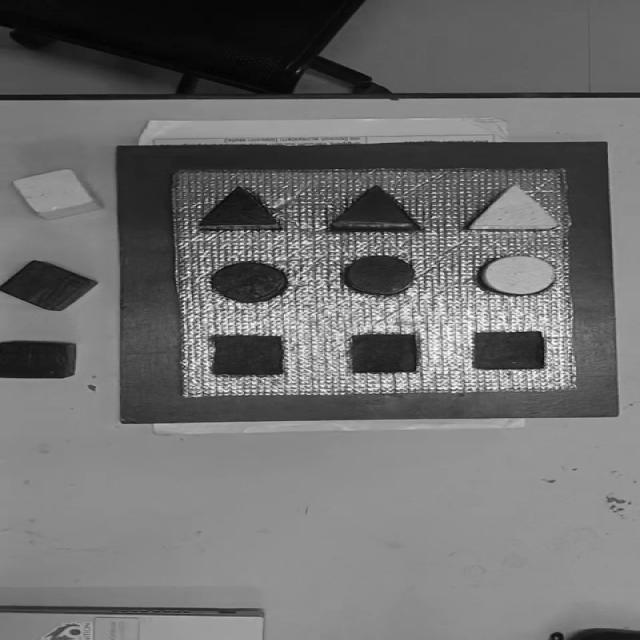bcircle: (210, 261, 289, 302)
bcube: (0, 340, 76, 380)
btriangle: (198, 186, 284, 231)
mtcube: (210, 334, 287, 376), (472, 330, 546, 370), (349, 332, 421, 373)
rcircle: (344, 254, 418, 296)
rcube: (1, 260, 98, 311)
rtriangle: (330, 184, 419, 228)
wb: (166, 166, 582, 396)
ycircle: (478, 254, 560, 295)
ycube: (11, 168, 104, 220)
ytriangle: (468, 184, 562, 231)
